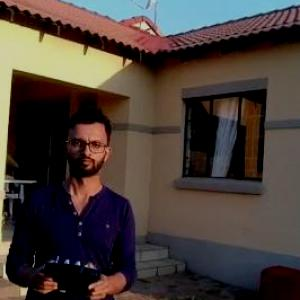follow: (0, 101, 140, 299)
